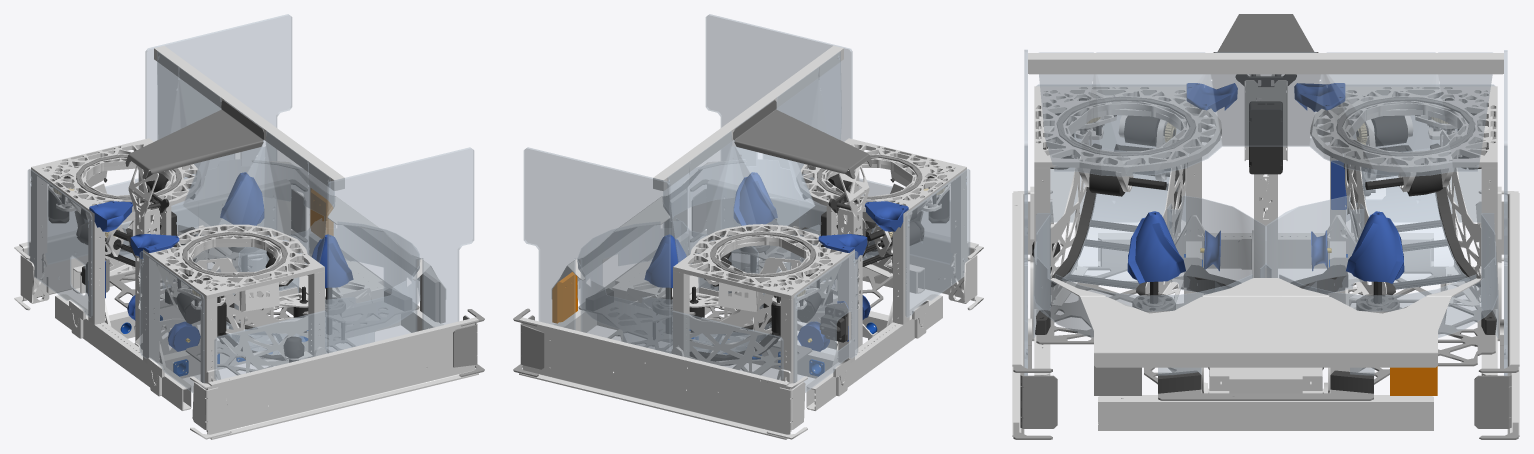
File: 1706-body.glb
3 views of the same model, side by side, from view 1: azimuth 30°, elevation 25°; view 2: azimuth 150°, elevation 25°; view 3: azimuth 270°, elevation 25° (orthographic). The views are drawn at different scales.
Parts seen in each view (by area): view 1: Part 23, Part 14, Part 10, Part 8, Part 1-Mirrored, Part 16, 3/8" Rounded Hex (0.5" L, 10.25mm OD), Part 2, KC080XP0, TTB-TUBE-008, Part 26-Mirrored, A-RB-10-301; view 2: Part 23, Part 14, Part 10, Part 8, Part 1-Mirrored, Part 16, 3/8" Rounded Hex (0.5" L, 10.25mm OD), Part 2, KC080XP0, TTB-TUBE-008, Part 26-Mirrored, 120A Main Breaker; view 3: Part 23, Part 14, Part 10, Part 8, Part 1-Mirrored, TTB-TUBE-008, 3/8" Rounded Hex (0.5" L, 10.25mm OD), Part 16, KC080XP0, Part 2, Robot Radio (VH-109), Part 26-Mirrored.
Part boxes in pixels (bbox=[...]): Part 23: bbox=[27, 14, 474, 393]; Part 14: bbox=[14, 45, 478, 439]; Part 10: bbox=[31, 138, 385, 363]; Part 8: bbox=[87, 179, 484, 377]; Part 1-Mirrored: bbox=[88, 172, 353, 351]; Part 16: bbox=[125, 100, 345, 314]; 3/8" Rounded Hex (0.5" L, 10.25mm OD): bbox=[48, 171, 341, 362]; Part 2: bbox=[74, 157, 279, 349]; KC080XP0: bbox=[76, 154, 287, 277]; TTB-TUBE-008: bbox=[74, 184, 411, 360]; Part 26-Mirrored: bbox=[310, 188, 333, 238]; A-RB-10-301: bbox=[120, 315, 308, 376]; Part 23: bbox=[523, 14, 970, 392]; Part 14: bbox=[519, 45, 983, 439]; Part 10: bbox=[612, 138, 966, 363]; Part 8: bbox=[513, 167, 923, 377]; Part 1-Mirrored: bbox=[644, 172, 908, 351]; Part 16: bbox=[652, 100, 872, 315]; 3/8" Rounded Hex (0.5" L, 10.25mm OD): bbox=[665, 170, 949, 352]; Part 2: bbox=[718, 157, 923, 349]; KC080XP0: bbox=[710, 154, 921, 277]; TTB-TUBE-008: bbox=[586, 184, 923, 365]; Part 26-Mirrored: bbox=[552, 272, 577, 323]; 120A Main Breaker: bbox=[819, 305, 847, 342]; Part 23: bbox=[1024, 49, 1507, 382]; Part 14: bbox=[1012, 53, 1519, 436]; Part 10: bbox=[1034, 80, 1497, 393]; Part 8: bbox=[1013, 201, 1518, 439]; Part 1-Mirrored: bbox=[1127, 83, 1404, 283]; TTB-TUBE-008: bbox=[1035, 74, 1496, 393]; 3/8" Rounded Hex (0.5" L, 10.25mm OD): bbox=[1032, 98, 1481, 369]; Part 16: bbox=[1132, 14, 1399, 311]; KC080XP0: bbox=[1056, 96, 1475, 156]; Part 2: bbox=[1039, 80, 1492, 277]; Robot Radio (VH-109): bbox=[1249, 101, 1282, 174]; Part 26-Mirrored: bbox=[1390, 366, 1437, 395].
Bounding box in the file's own units: 0.6811 × 0.5175 × 0.8065.
